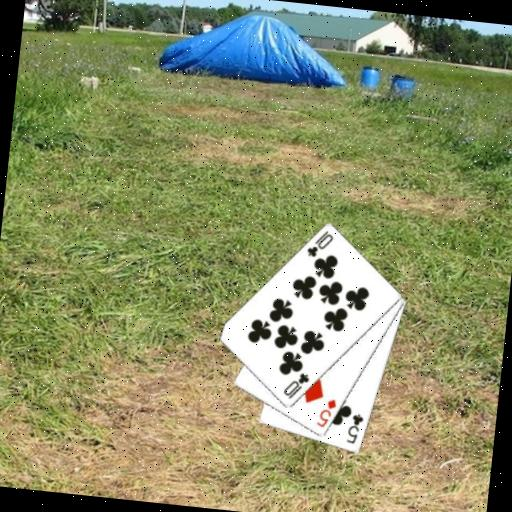10C: (303, 226, 336, 261), (280, 369, 312, 403)
5C: (344, 410, 366, 447)
5D: (313, 395, 338, 431)
